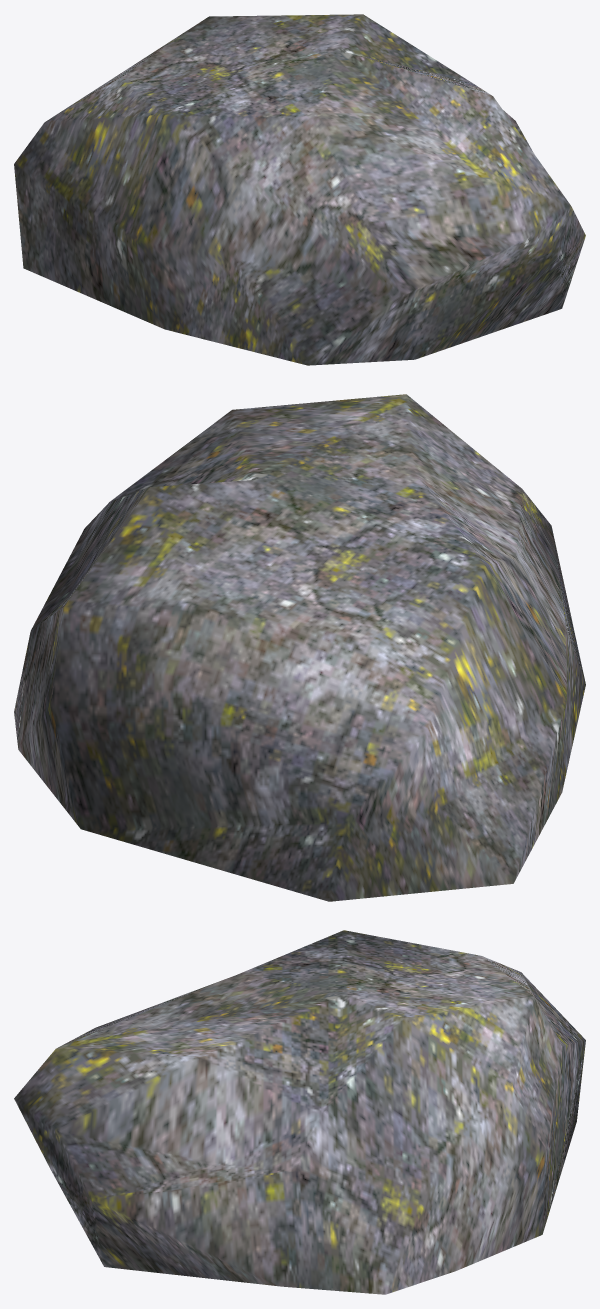
File: rock_weatheredmossy_large_a1_l0.fbx
3 views of the same model, one above another, from view 1: azimuth 30°, elevation 25°; view 2: azimuth 150°, elevation 25°; view 3: azimuth 270°, elevation 25° (orthographic). The views are drawn at different scales.
Parts seen in each view (by area): view 1: mesh_node; view 2: mesh_node; view 3: mesh_node.
Boxes of the visible parts, left/top/right/bottom form: mesh_node: left=14, top=14, right=585, bottom=365; mesh_node: left=14, top=394, right=585, bottom=901; mesh_node: left=14, top=930, right=585, bottom=1294.
Bounding box in the file's own units: 0.6933 × 0.3328 × 0.7702.
1 material, 1 textured.
